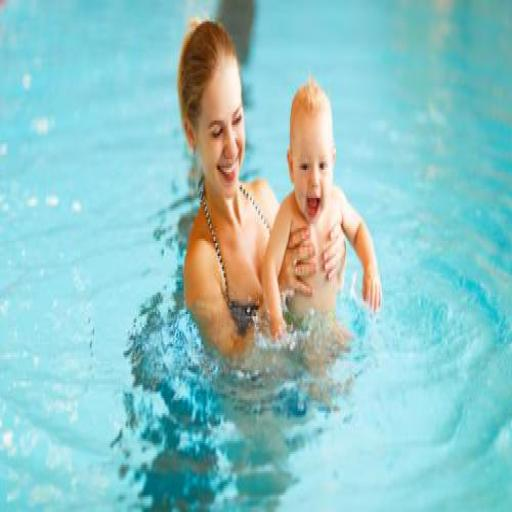swimming: (259, 77, 383, 355)
